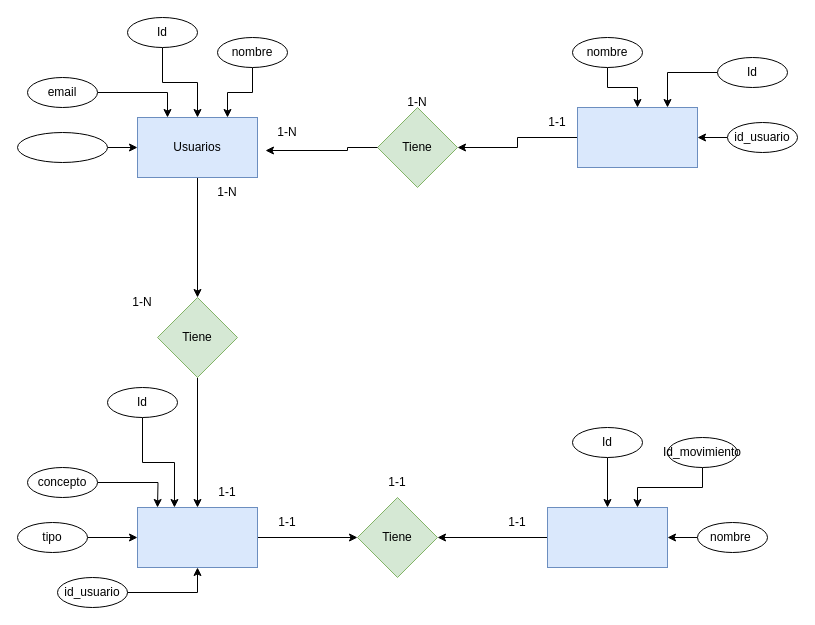
Some shapes in this 815 by 625 pixel diagram are drawn without their labels. The box of each missing label's shape, as (x1, y1, x2, y2) in pixels:
categoria: (546, 506, 668, 568)
fecha_registro: (16, 132, 108, 162)
Metodo de pago: (576, 106, 698, 168)
Movimientos: (136, 506, 258, 568)
